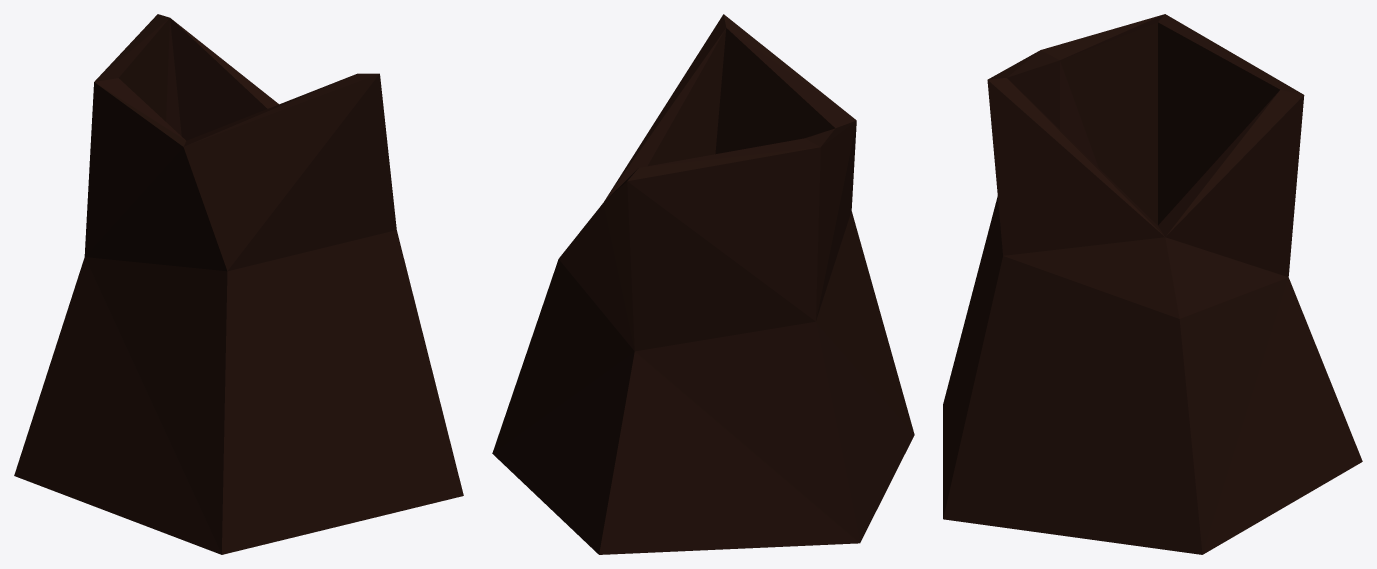
Rendered from Trunk_02.obj.
3 views of the same model, side by side, from view 1: azimuth 30°, elevation 25°; view 2: azimuth 150°, elevation 25°; view 3: azimuth 270°, elevation 25° (orthographic). The views are drawn at different scales.
Visible parts, largest first — view 1: Trunk_02_Circle; view 2: Trunk_02_Circle; view 3: Trunk_02_Circle.
Boxes of the visible parts, x1,y1,x2,y2 form: Trunk_02_Circle: [14, 14, 463, 554]; Trunk_02_Circle: [492, 14, 914, 554]; Trunk_02_Circle: [943, 14, 1362, 554].
Bounding box in the file's own units: 1.27 × 1.31 × 1.21.
